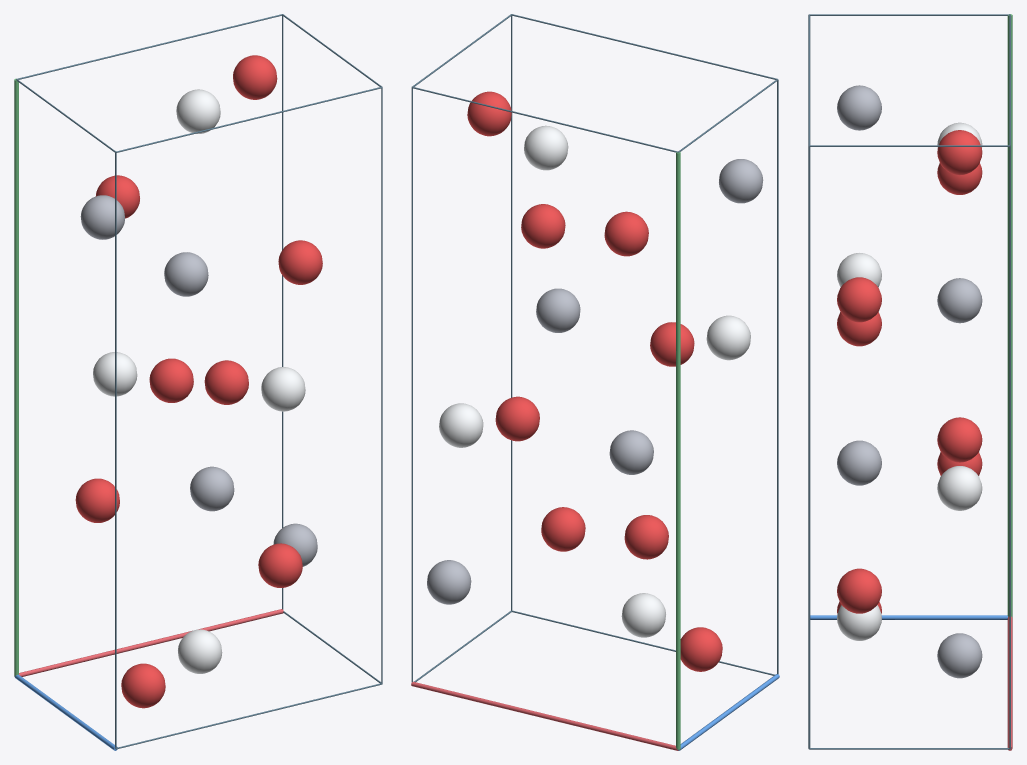
Rendered from diaspore.glb.
3 renders of one model, left to right at view 1: azimuth 30°, elevation 25°; view 2: azimuth 150°, elevation 25°; view 3: azimuth 270°, elevation 25°, orthographic.
Visible parts, largest first — view 1: Ô mạng và các trục a, b, c, O2 · O · 1 (×4), H · H · 1 (×4), Al · Al · 1 (×4), O1 · O · 1 (×4); view 2: Ô mạng và các trục a, b, c, Al · Al · 1 (×4), O1 · O · 1 (×4), H · H · 1 (×4), O2 · O · 1 (×4); view 3: Ô mạng và các trục a, b, c, Al · Al · 1 (×4), O1 · O · 1 (×4), O2 · O · 1 (×3), H · H · 1 (×4).
Boxes of the visible parts, x1=… form: Ô mạng và các trục a, b, c: x1=14, y1=14, x2=382, y2=750; O2 · O · 1 (×4): x1=121, y1=55, x2=277, y2=708; H · H · 1 (×4): x1=93, y1=89, x2=305, y2=673; Al · Al · 1 (×4): x1=80, y1=195, x2=317, y2=566; O1 · O · 1 (×4): x1=75, y1=175, x2=322, y2=587; Ô mạng và các trục a, b, c: x1=411, y1=14, x2=779, y2=750; Al · Al · 1 (×4): x1=427, y1=159, x2=763, y2=604; O1 · O · 1 (×4): x1=521, y1=204, x2=668, y2=559; H · H · 1 (×4): x1=439, y1=125, x2=750, y2=637; O2 · O · 1 (×4): x1=467, y1=91, x2=722, y2=671; Ô mạng và các trục a, b, c: x1=808, y1=14, x2=1012, y2=750; Al · Al · 1 (×4): x1=837, y1=85, x2=982, y2=678; O1 · O · 1 (×4): x1=837, y1=163, x2=982, y2=613; O2 · O · 1 (×3): x1=837, y1=130, x2=982, y2=462; H · H · 1 (×4): x1=837, y1=122, x2=982, y2=640.
Size of the model in its own units: 4.65 by 9.47 by 2.89.
